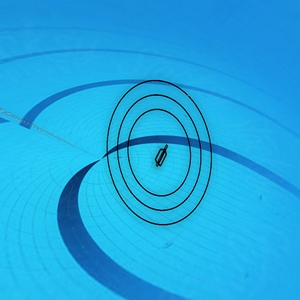circle: (102, 77, 220, 225)
submarine: (155, 140, 171, 170)
